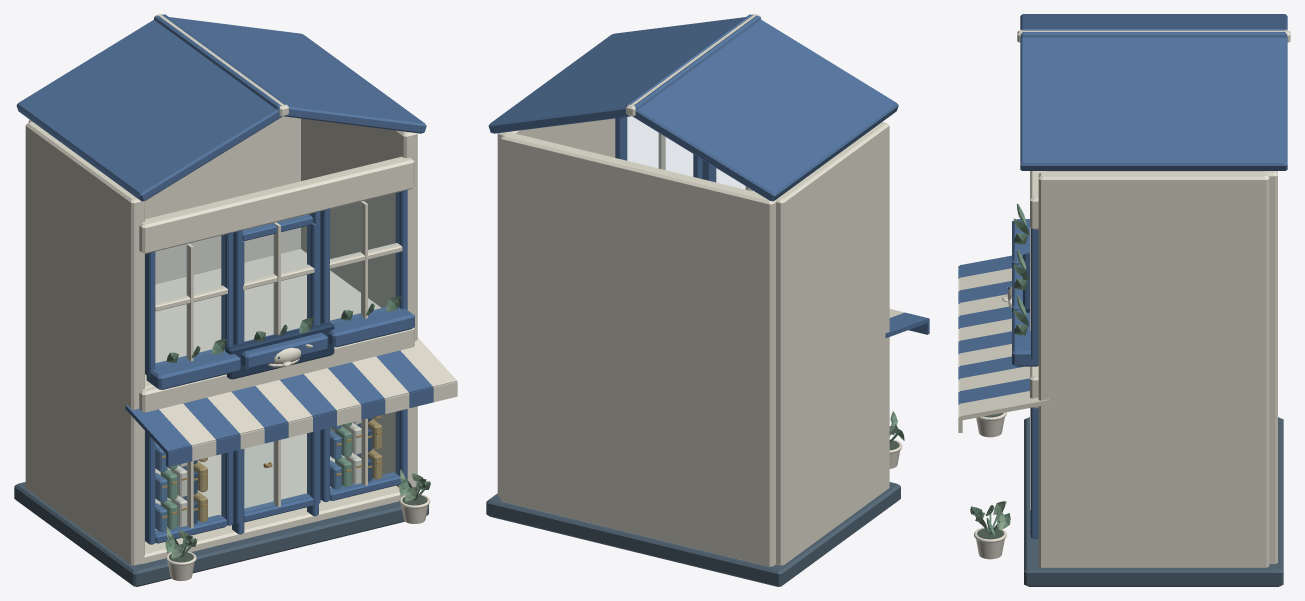
The model's file is v18_buildings_bookstore.glb.
3 renders of one model, left to right at view 1: azimuth 30°, elevation 25°; view 2: azimuth 150°, elevation 25°; view 3: azimuth 270°, elevation 25°, orthographic. The views are drawn at different scales.
Visible parts, largest first — view 1: _MeshInstance3D_3842, _MeshInstance3D_4003, _MeshInstance3D_3843, _MeshInstance3D_4004, _MeshInstance3D_3844, _MeshInstance3D_3960, _MeshInstance3D_3959, _MeshInstance3D_3845, _MeshInstance3D_3841, _MeshInstance3D_3846, _MeshInstance3D_3967, _MeshInstance3D_3993 (+36 smaller); view 2: _MeshInstance3D_3844, _MeshInstance3D_3842, _MeshInstance3D_4003, _MeshInstance3D_4004, _MeshInstance3D_3841, _MeshInstance3D_3843, _MeshInstance3D_4006; view 3: _MeshInstance3D_3843, _MeshInstance3D_4004, _MeshInstance3D_3841, _MeshInstance3D_4003, _MeshInstance3D_3844, _MeshInstance3D_4028, _MeshInstance3D_3903, _MeshInstance3D_3988, _MeshInstance3D_4026, _MeshInstance3D_4024, _MeshInstance3D_3993, _MeshInstance3D_4022 (+13 smaller).
Boxes of the visible parts, x1=… form: _MeshInstance3D_3842: x1=25, y1=122, x2=144, y2=565; _MeshInstance3D_4003: x1=16, y1=14, x2=289, y2=201; _MeshInstance3D_3843: x1=301, y1=118, x2=417, y2=492; _MeshInstance3D_4004: x1=154, y1=15, x2=426, y2=133; _MeshInstance3D_3844: x1=28, y1=116, x2=300, y2=442; _MeshInstance3D_3960: x1=139, y1=156, x2=414, y2=253; _MeshInstance3D_3959: x1=145, y1=249, x2=380, y2=388; _MeshInstance3D_3845: x1=141, y1=433, x2=405, y2=564; _MeshInstance3D_3841: x1=14, y1=482, x2=428, y2=586; _MeshInstance3D_3846: x1=139, y1=328, x2=414, y2=412; _MeshInstance3D_3967: x1=146, y1=349, x2=240, y2=389; _MeshInstance3D_3993: x1=328, y1=307, x2=414, y2=347; _MeshInstance3D_3844: x1=500, y1=132, x2=775, y2=566; _MeshInstance3D_3842: x1=775, y1=122, x2=889, y2=565; _MeshInstance3D_4003: x1=625, y1=14, x2=898, y2=201; _MeshInstance3D_4004: x1=488, y1=15, x2=760, y2=133; _MeshInstance3D_3841: x1=486, y1=482, x2=900, y2=586; _MeshInstance3D_3843: x1=497, y1=118, x2=615, y2=497; _MeshInstance3D_4006: x1=885, y1=312, x2=929, y2=337; _MeshInstance3D_3843: x1=1038, y1=171, x2=1269, y2=567; _MeshInstance3D_4004: x1=1020, y1=29, x2=1287, y2=170; _MeshInstance3D_3841: x1=1024, y1=417, x2=1283, y2=586; _MeshInstance3D_4003: x1=1020, y1=14, x2=1287, y2=38; _MeshInstance3D_3844: x1=1261, y1=171, x2=1277, y2=564; _MeshInstance3D_4028: x1=959, y1=391, x2=1049, y2=420; _MeshInstance3D_3903: x1=1031, y1=407, x2=1038, y2=538; _MeshInstance3D_3988: x1=1031, y1=228, x2=1038, y2=359; _MeshInstance3D_4026: x1=959, y1=378, x2=1029, y2=403; _MeshInstance3D_4024: x1=959, y1=366, x2=1029, y2=390; _MeshInstance3D_3993: x1=1012, y1=310, x2=1038, y2=366; _MeshInstance3D_4022: x1=959, y1=356, x2=1023, y2=378.
Size of the model in its own units: 4.69 by 6.79 by 4.26.
